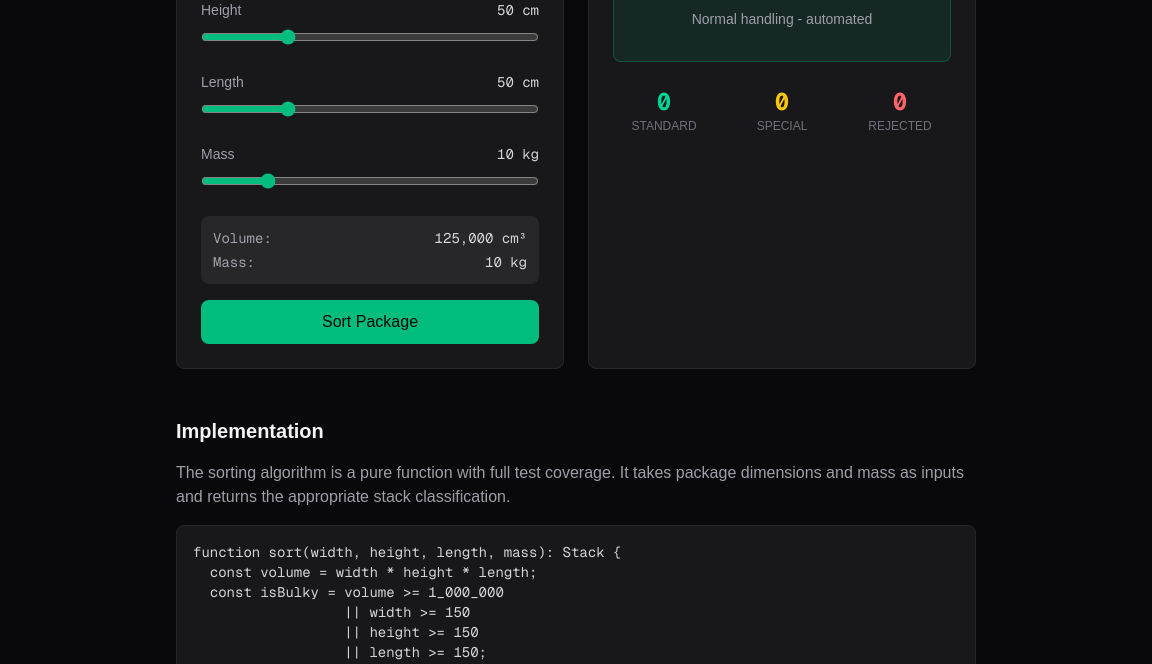
PackageSorterPage › adds a package to the recent packages table when sorted
This screenshot has width=1152, height=664.
(page scrolled)
Click the button "Sort Package" at (370, 322), box [201,300,539,344]
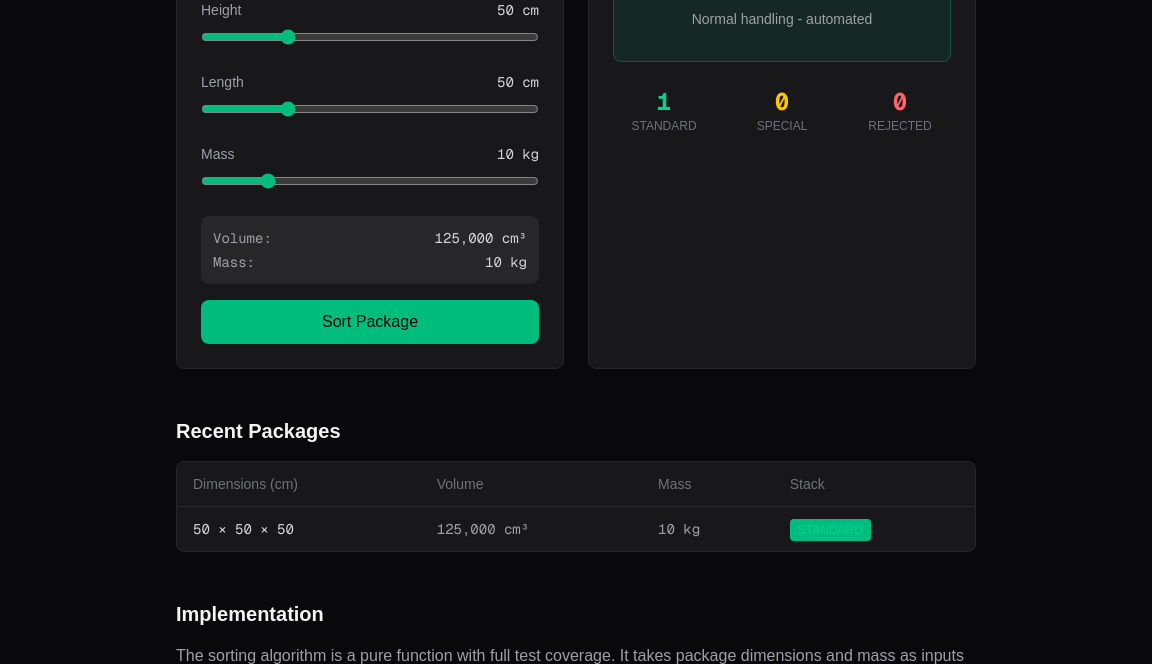
Result: the heading "Recent Packages" is shown at [176,420,340,442]
